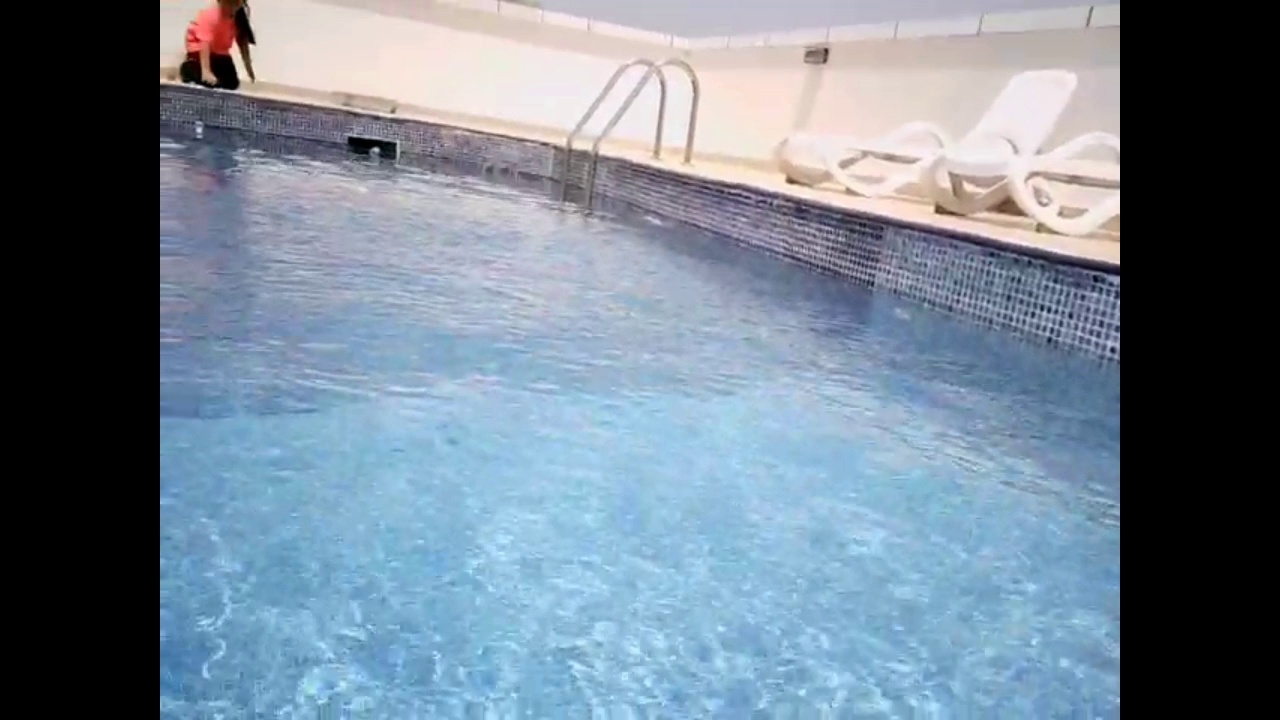debris: (366, 144, 384, 159), (190, 118, 207, 133)
